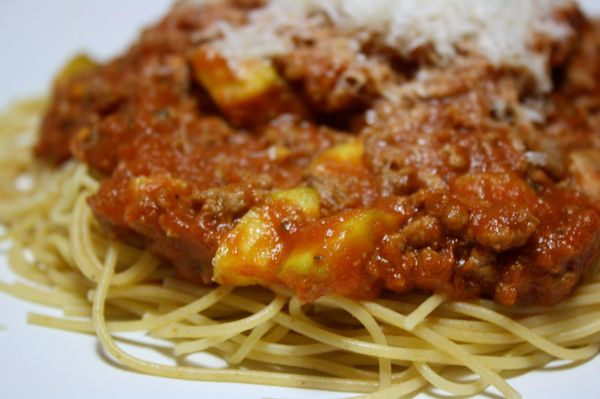sandwich: (10, 3, 600, 315)
